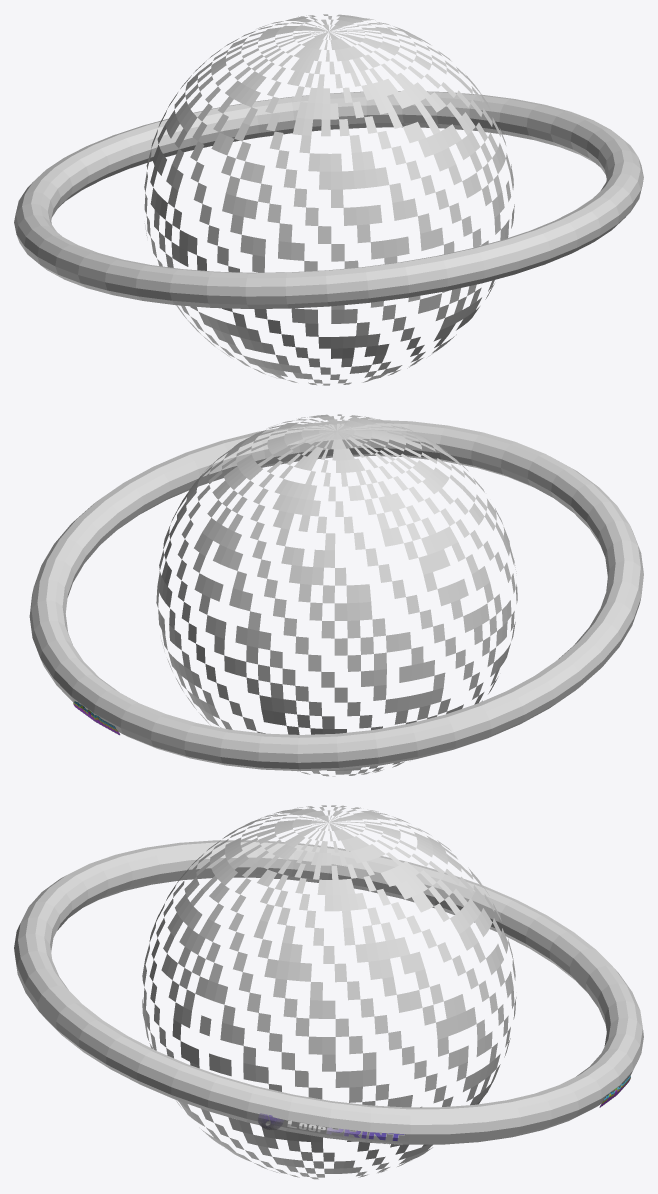
File: sphereV4.2.3.glb
3 views of the same model, one above another, from view 1: azimuth 30°, elevation 25°; view 2: azimuth 150°, elevation 25°; view 3: azimuth 270°, elevation 25° (orthographic). The views are drawn at different scales.
Parts seen in each view (by area): view 1: Sphere, Torus; view 2: Torus, Sphere; view 3: Sphere, Torus, loopPrint-header.
Part boxes in pixels (bbox=[...]): Sphere: bbox=[144, 14, 514, 385]; Torus: bbox=[14, 91, 643, 308]; Torus: bbox=[29, 419, 643, 771]; Sphere: bbox=[156, 414, 517, 776]; Sphere: bbox=[142, 805, 516, 1179]; Torus: bbox=[14, 840, 643, 1144]; loopPrint-header: bbox=[258, 1113, 404, 1144].
Bounding box in the file's own units: 17.65 × 10 × 16.8.
Materials: 2 (2 with a texture image).
